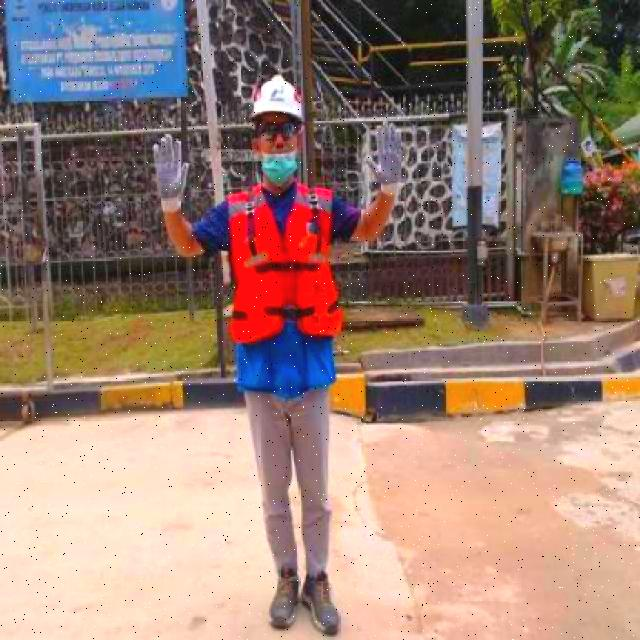Boots: (300, 570, 342, 636), (267, 566, 301, 631)
Gloves: (365, 118, 403, 200), (153, 134, 190, 214)
Helmet: (252, 73, 306, 124)
Mask: (230, 232, 344, 342)
